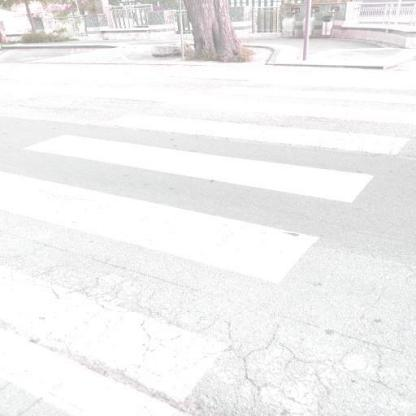crosswalk: (19, 106, 412, 211)
